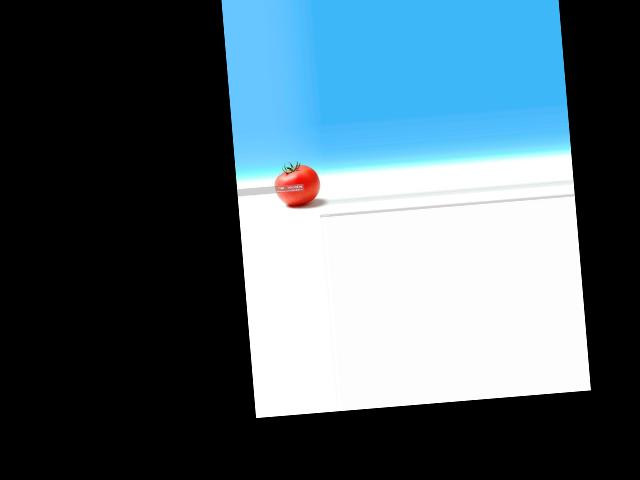tomato: (272, 163, 320, 206)
